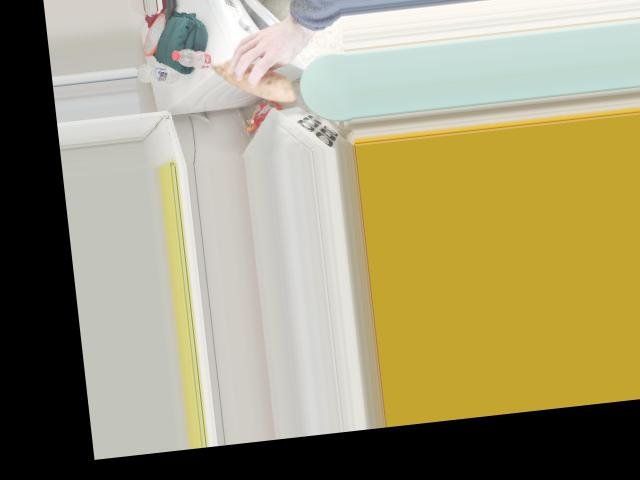sweet_potato: (214, 42, 283, 107)
